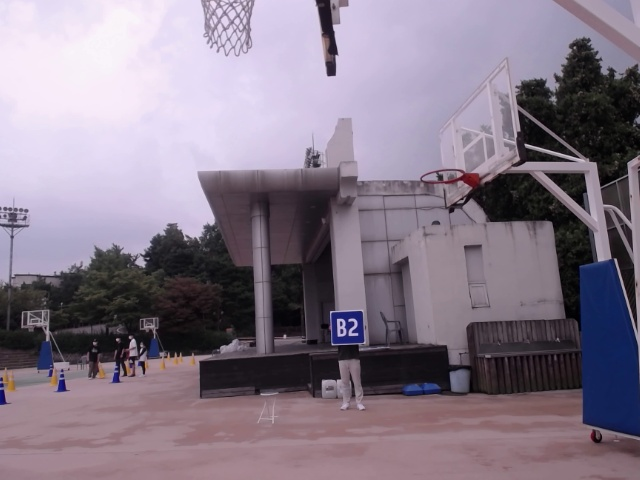delivery_b2: (330, 310, 365, 346)
